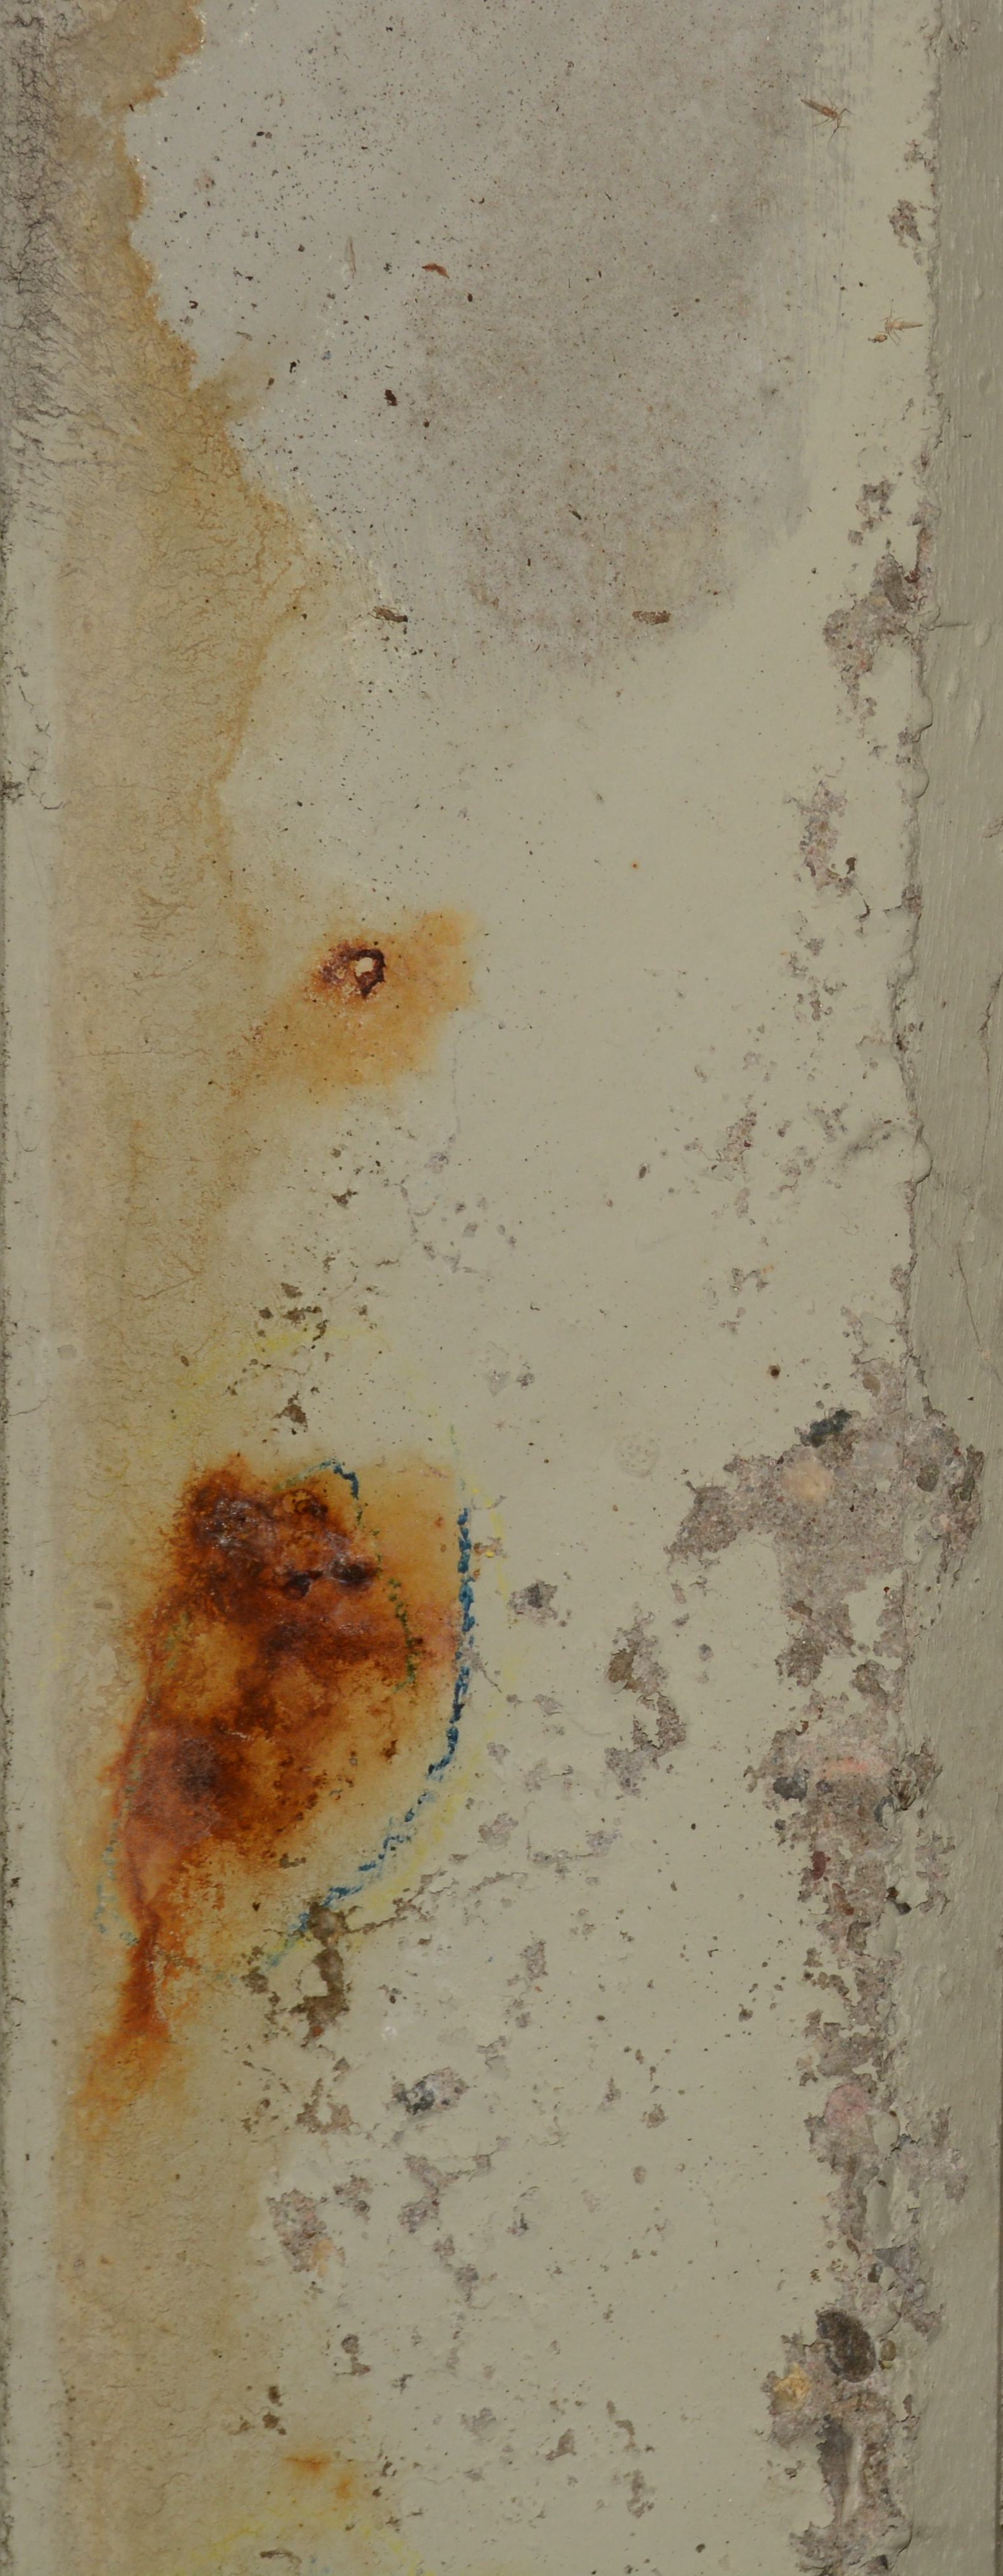Corrosion: (59, 0, 320, 2576), (72, 1457, 463, 2129), (274, 902, 471, 1094)
Spalling: (665, 1355, 982, 2576), (238, 1904, 660, 2576), (635, 386, 936, 1226), (465, 1577, 685, 1889)
